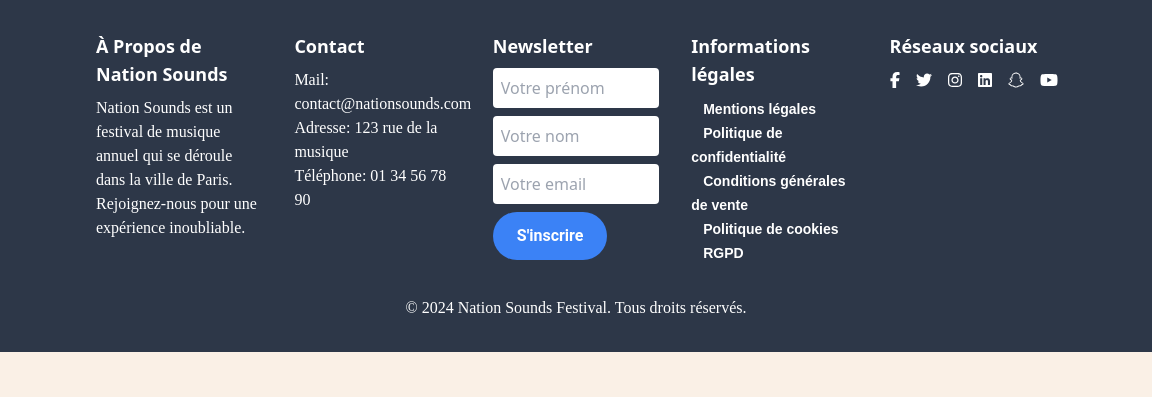
Test: Composant Footer › soumet le formulaire avec succès
Remplir le formulaire
Type "John" into the field with placeholder "Votre prénom" at (576, 88), box [493,68,659,108]
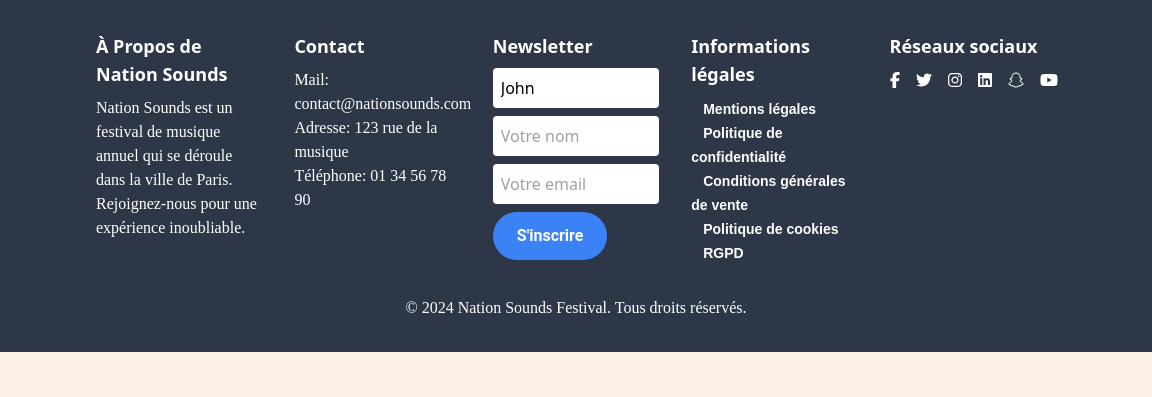
Type "Doe" into the field with placeholder "Votre nom" at (576, 136), box [493,116,659,156]
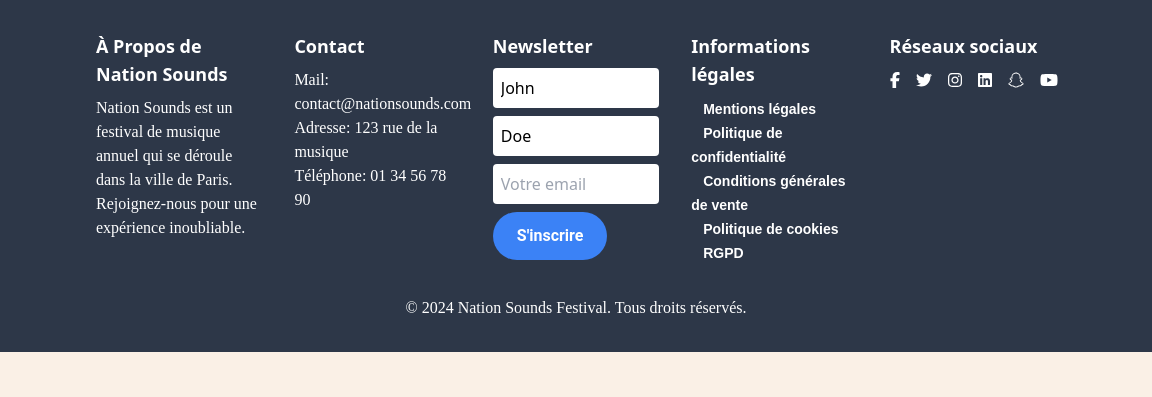
Type "john.doe@example.com" into the field with placeholder "Votre email" at (576, 184), box [493,164,659,204]
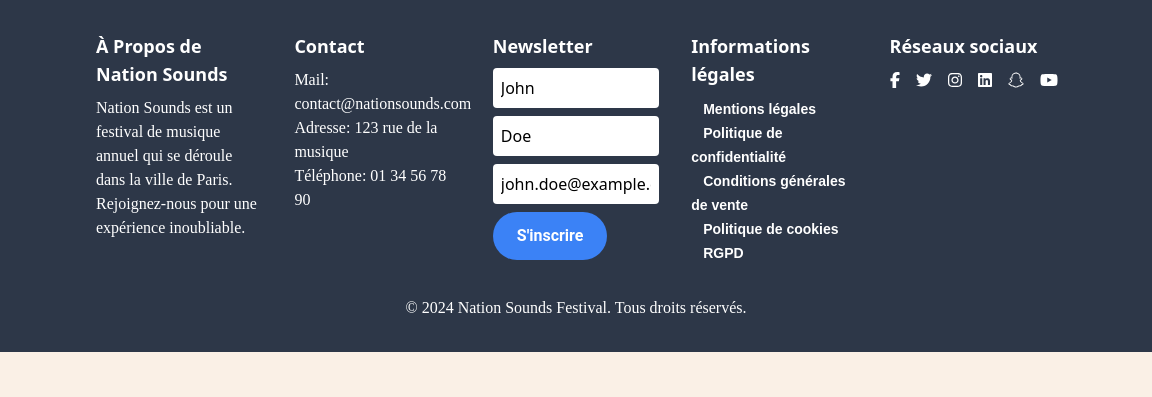
Soumettre le formulaire
Click the button "S'inscrire" at (550, 236), box [493,212,608,260]
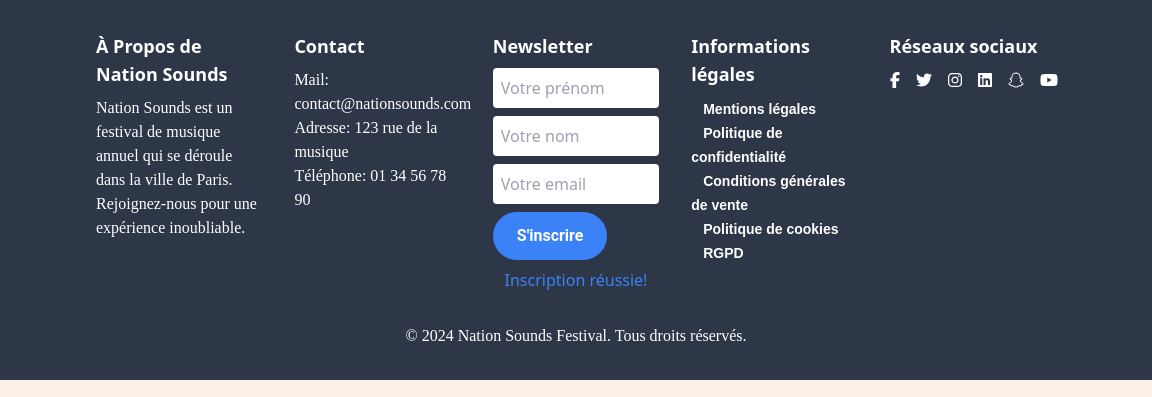
Expected: the text "Inscription réussie!" is shown, [493,268,659,292]
Expected: the field with placeholder "Votre prénom" is empty, [493,68,659,108]
Expected: the field with placeholder "Votre nom" is empty, [493,116,659,156]
